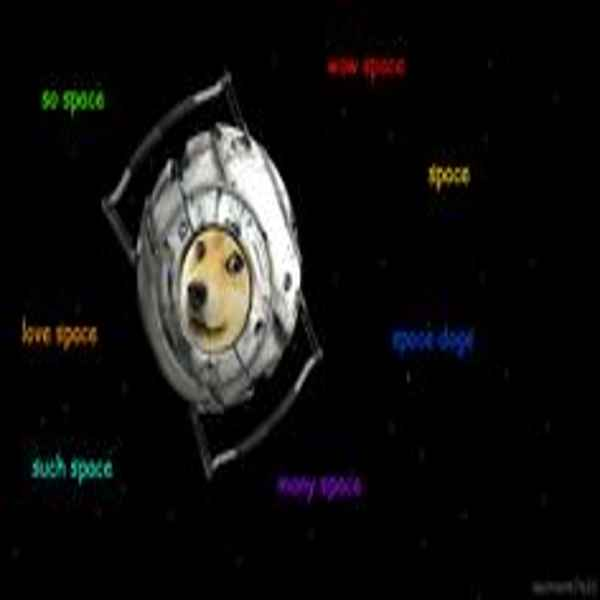doge: (169, 220, 257, 355)
